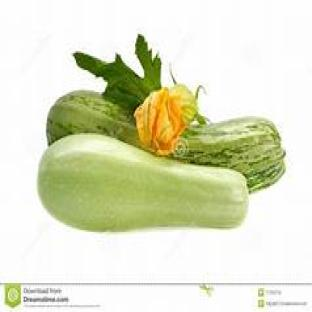Zucchini: (39, 135, 247, 231), (172, 118, 284, 192)
